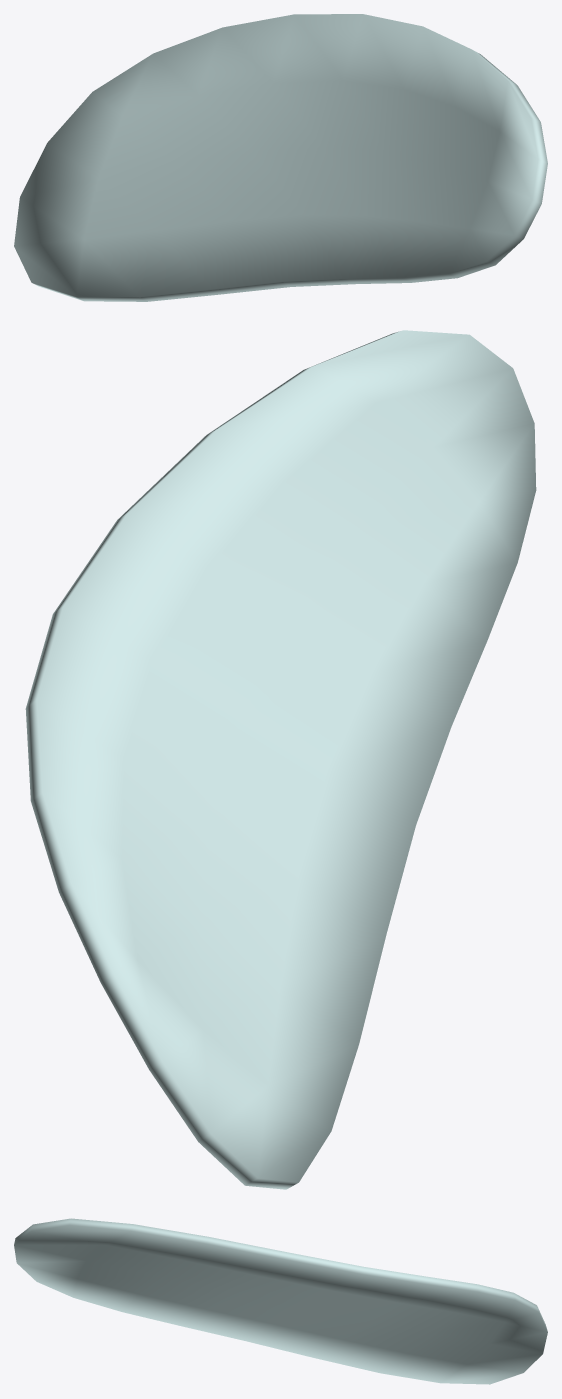
File: Acromioclavicular_joint_articular_disc_left.glb
The picture shows the model from 3 angles, top to bottom: view 1: azimuth 30°, elevation 25°; view 2: azimuth 150°, elevation 25°; view 3: azimuth 270°, elevation 25°; orthographic projection. The views are drawn at different scales.
Parts seen in each view (by area): view 1: Articular_disc_of_acromioclavicular_joint.l_Cube.058; view 2: Articular_disc_of_acromioclavicular_joint.l_Cube.058; view 3: Articular_disc_of_acromioclavicular_joint.l_Cube.058.
Boxes of the visible parts, left/top/right/bottom form: Articular_disc_of_acromioclavicular_joint.l_Cube.058: left=14, top=14, right=547, bottom=301; Articular_disc_of_acromioclavicular_joint.l_Cube.058: left=25, top=330, right=536, bottom=1189; Articular_disc_of_acromioclavicular_joint.l_Cube.058: left=14, top=1218, right=547, bottom=1384.
Bounding box in the file's own units: 0.0117 × 0.0141 × 0.0282.
